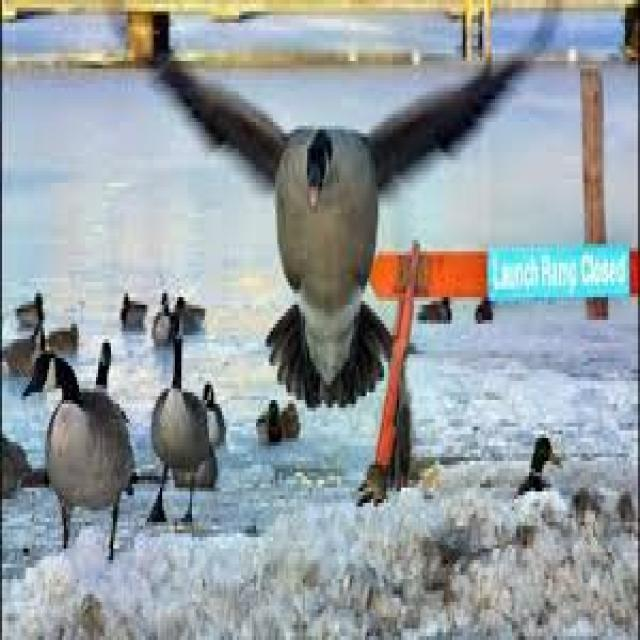Goose: (175, 63, 495, 409), (22, 352, 134, 546), (154, 298, 204, 528)
